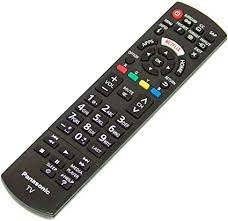remote control: (0, 0, 228, 221)
